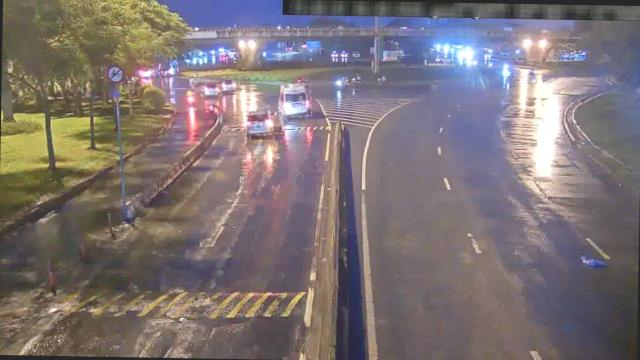Bus: (279, 82, 312, 116)
Car: (244, 106, 282, 136), (198, 80, 222, 96), (218, 76, 239, 92)
